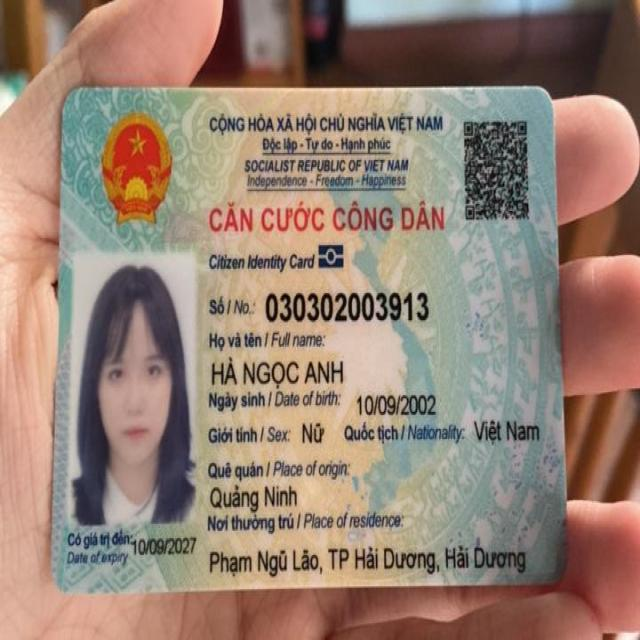bottom_left: (37, 551, 97, 605)
bottom_right: (535, 548, 577, 605)
image_person: (69, 257, 204, 527)
top_left: (52, 72, 100, 126)
top_right: (516, 76, 572, 123)
